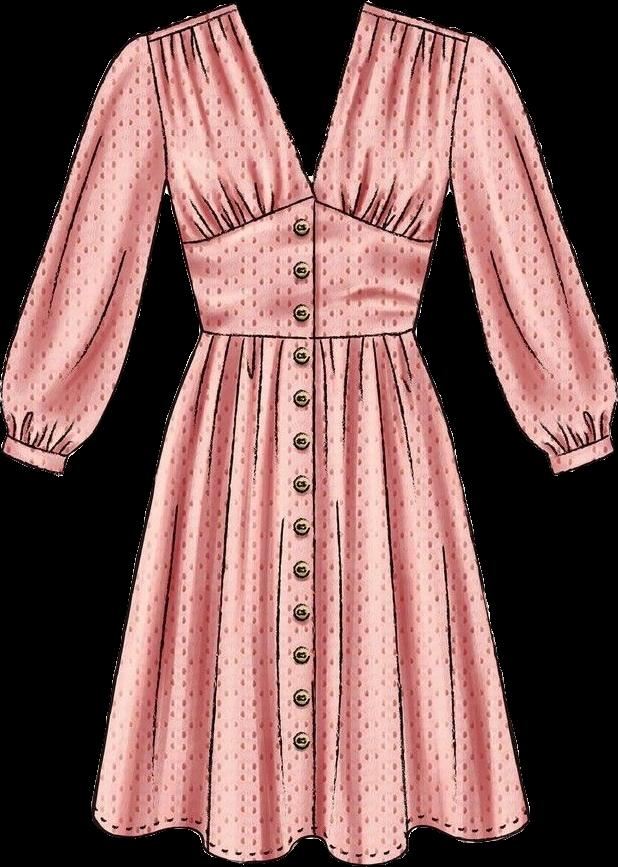Bodice: (144, 2, 473, 340)
Hemline: (90, 812, 534, 866)
Neckline: (228, 0, 374, 194), (179, 188, 437, 247)
Skirt: (92, 333, 529, 864)
Sleeve: (450, 36, 617, 474), (1, 34, 166, 476)
Sleeveline: (442, 31, 477, 183), (144, 32, 169, 189), (4, 430, 75, 459), (548, 430, 613, 461)
Waistline: (196, 327, 418, 345)
